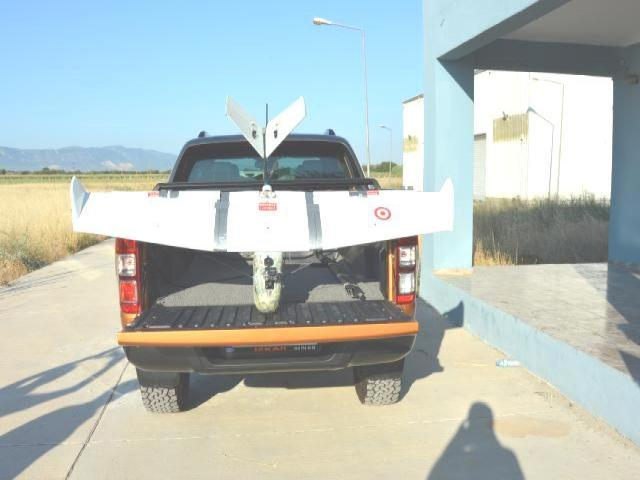iha: (58, 86, 474, 313)
